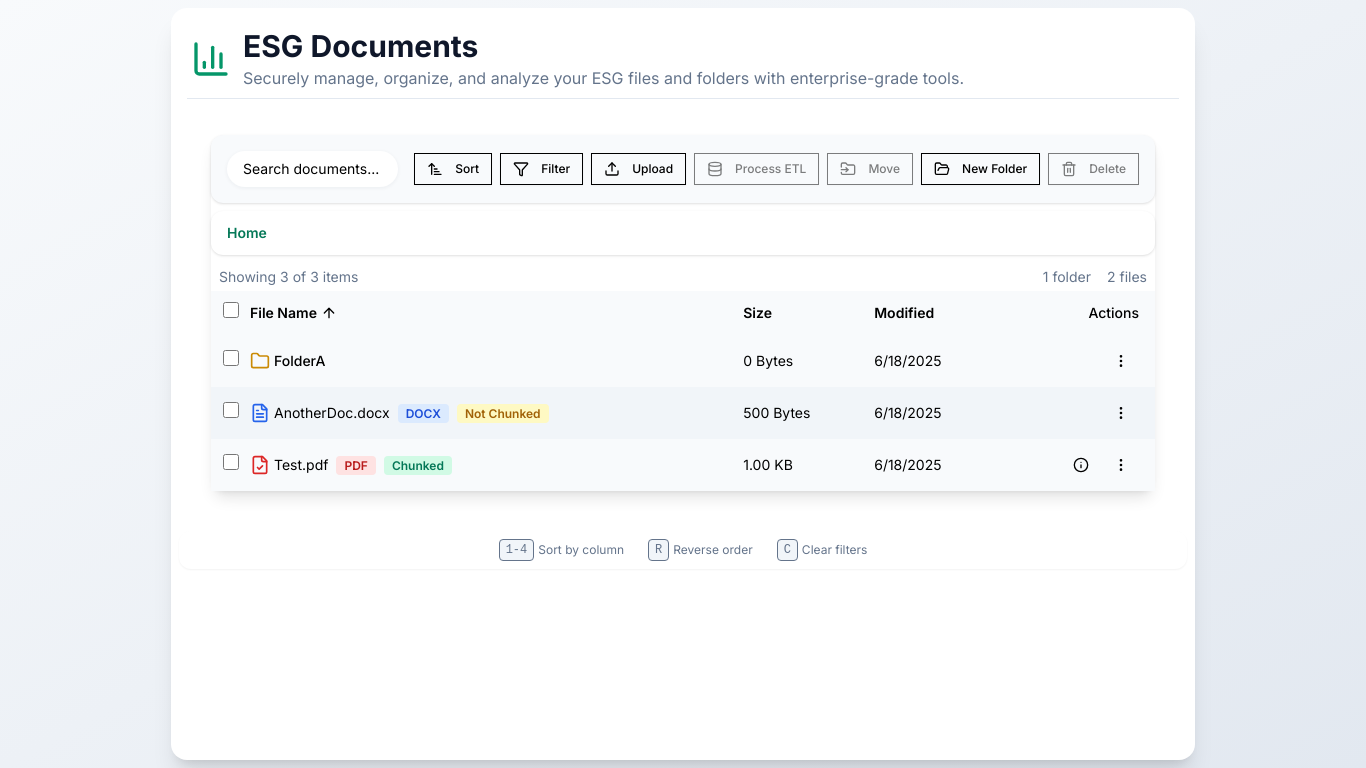
Test case: Item Selection Functionality › should deselect all items when 'select all' checkbox is clicked and all are selected
Check: the text "Test.pdf" is shown, box [274,456,328,472]
Check: the text "FolderA" is shown, box [274,350,325,370]
// Action: Click the "Select All" checkbox to select all
Click the checkbox named "Select all documents": (231, 310) [223,302,239,318]
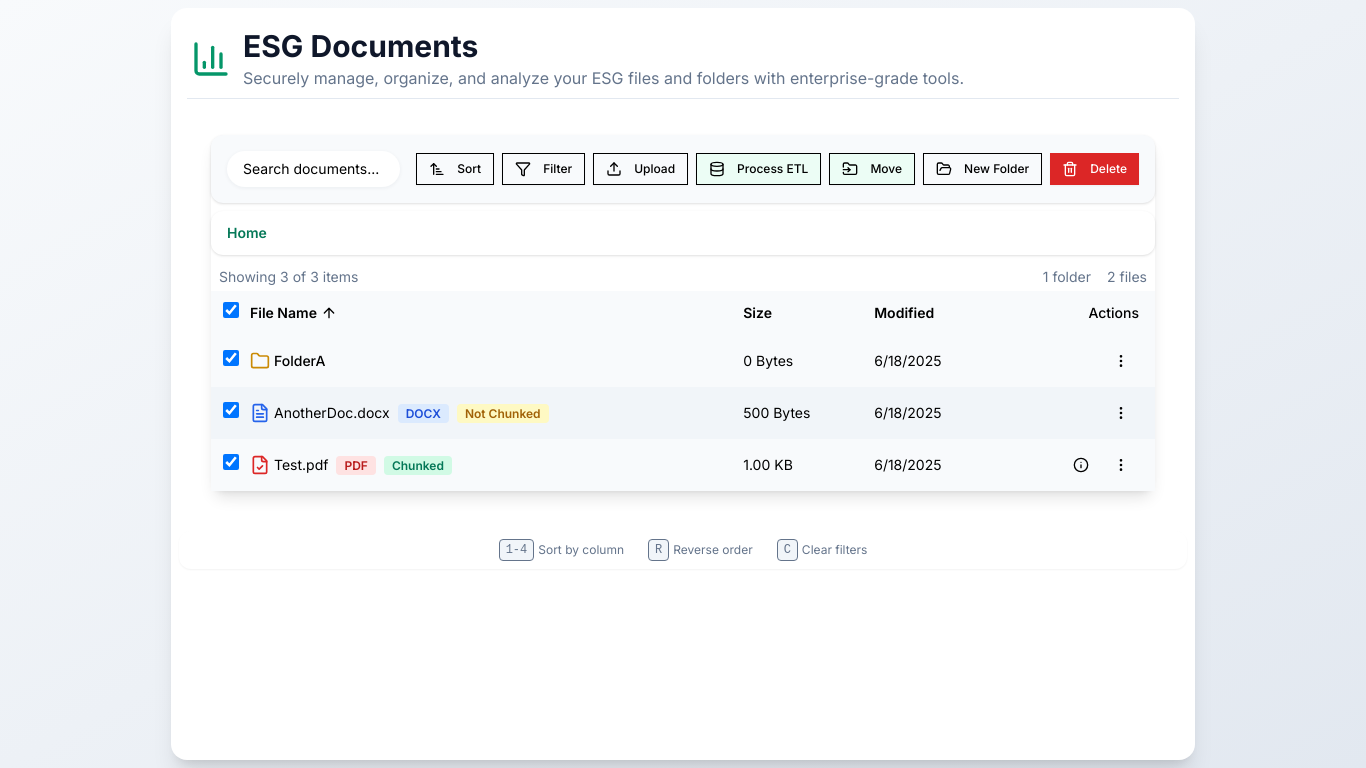
Check: the checkbox named "Select all documents" is checked
Check: the checkbox next to "Test.pdf" is checked, box [223,454,239,470]
Check: the checkbox next to "FolderA" is checked, box [223,350,239,366]
Click the checkbox named "Select all documents": (231, 310) [223,302,239,318]
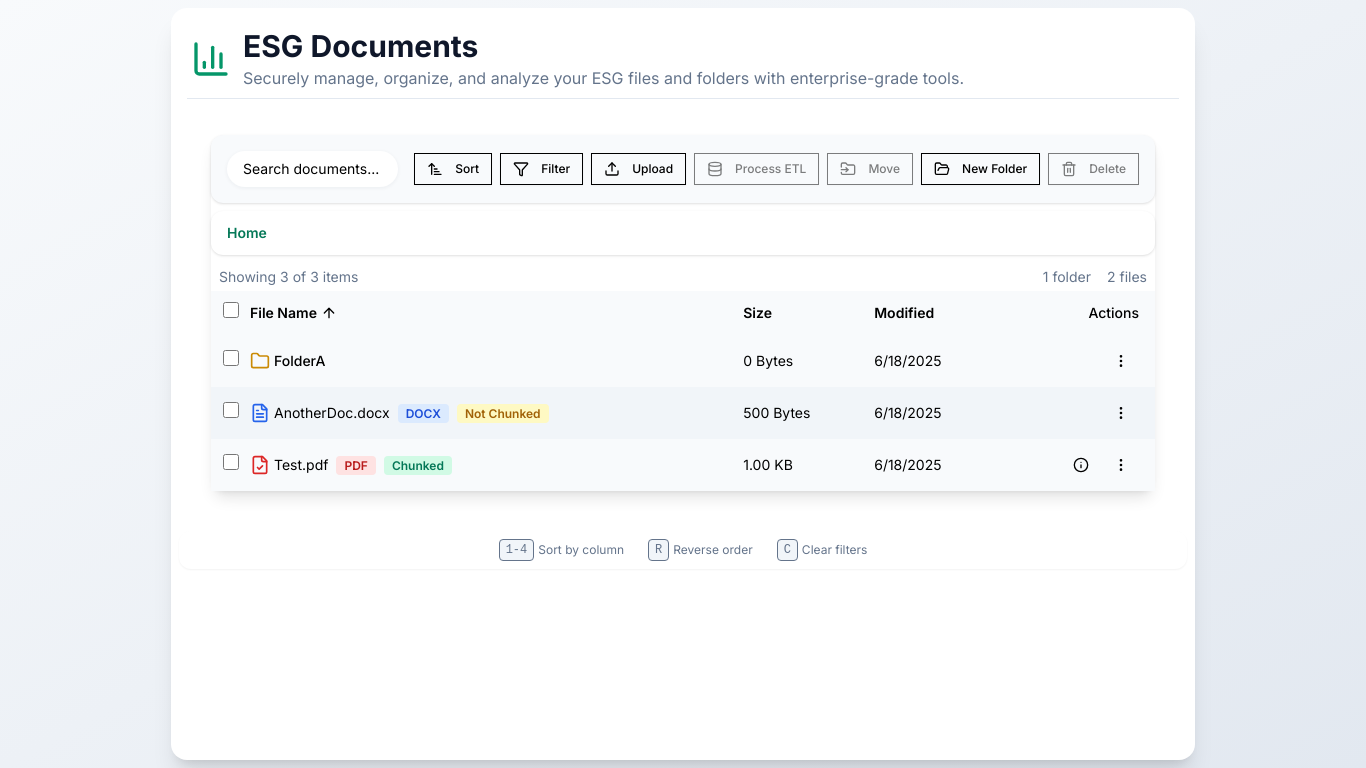
Check: the checkbox named "Select all documents" is not checked, box [223,302,239,318]
Check: the checkbox next to "Test.pdf" is not checked, box [223,454,239,470]
Check: the checkbox next to "FolderA" is not checked, box [223,350,239,366]
